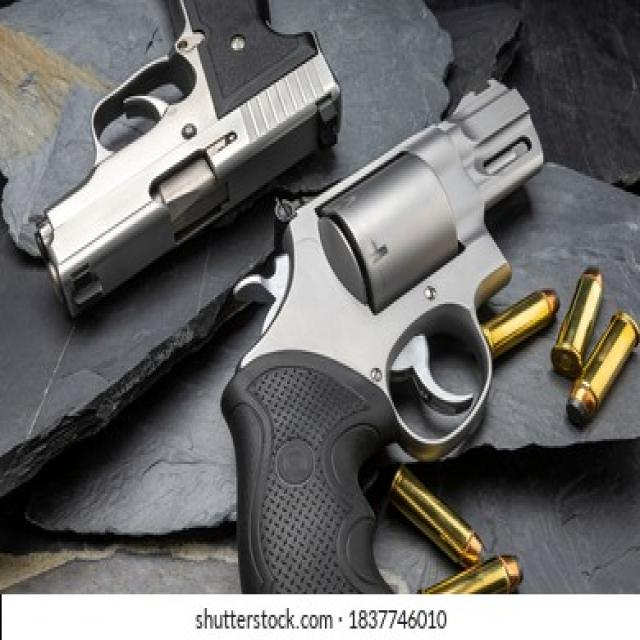HandGun: (222, 80, 546, 594), (34, 0, 341, 318)
